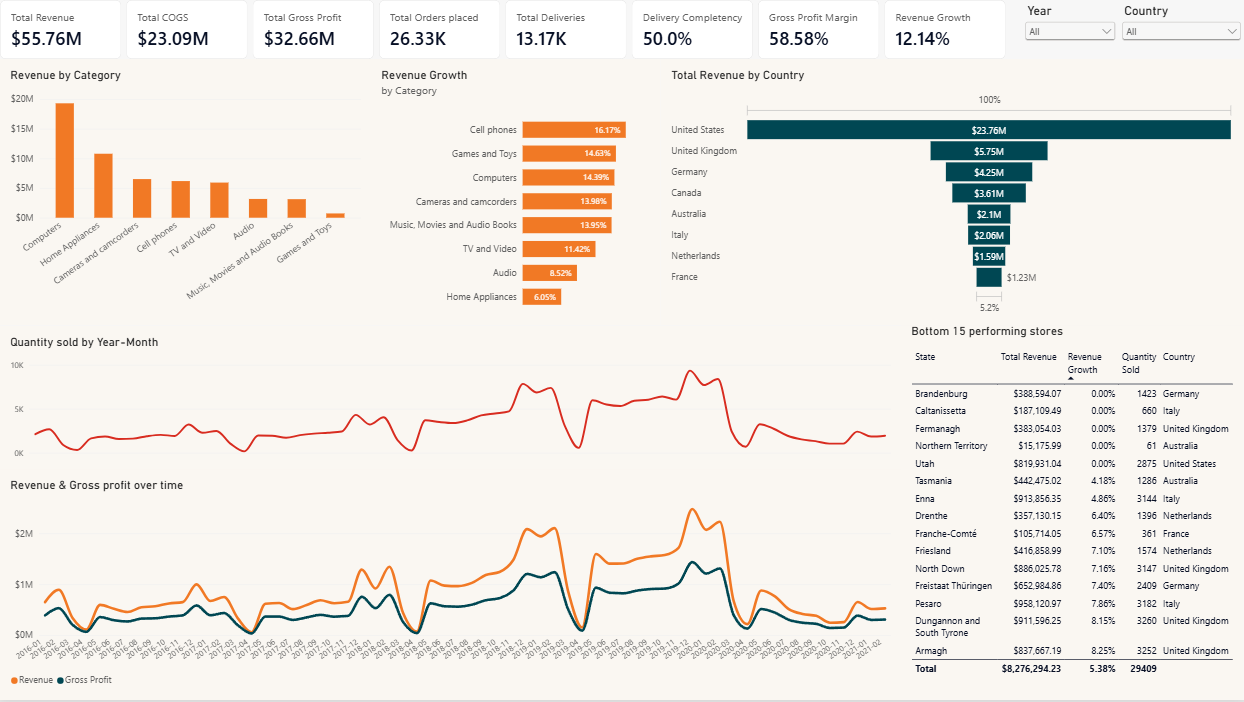

What the dashboard file says about the page in this screenshot:
{"tool":"powerbi","page":{"name":"Page 1","canvas":[1920,1080],"ordinal":0},"visuals":[{"type":"lineChart","title":"Revenue & Gross profit over time","fields":{"Category":["Calendar.Year-Month"],"Y":["Sum(sales.Revenue)","Sum(sales.Gross Profit)"]},"box":[0,723.9,1390.6,356.5],"z":0},{"type":"cardVisual","fields":{"Data":["Sum(sales.Revenue)","Sum(sales.COGS)","Sum(sales.Gross Profit)","Count(sales.Order Number)","CountNonNull(sales.Delivery Date)","sales.Delivery Completency","sales.Gross Profit Margin","sales.Revenue Growth"]},"box":[0,0,1557.5,91.8],"z":1000},{"type":"columnChart","fields":{"Category":["Products.Category"],"Y":["Sum(sales.Revenue)"]},"box":[0,91.8,573.3,411],"z":2000},{"type":"lineChart","fields":{"Category":["Calendar.Year-Month"],"Y":["Sum(sales.Quantity)"]},"box":[0,503.2,1390.6,220.7],"z":3000},{"type":"slicer","fields":{"Values":["Stores.Country"]},"box":[1726.4,5.3,192.9,86.5],"z":4000},{"type":"tableEx","title":"Bottom 15 performing stores","fields":{"Values":["Stores.State","Sum(sales.Revenue)","sales.Revenue Growth","Sum(sales.Quantity)","Stores.Country"]},"box":[1390.6,486.2,529.4,594.2],"z":5000},{"type":"funnel","title":"Total Revenue by Country","fields":{"Category":["Stores.Country"],"Y":["Sum(sales.Revenue)"]},"box":[1020.1,91.8,900.4,411],"z":6000},{"type":"slicer","fields":{"Values":["Calendar.Year"]},"box":[1577.4,5.3,149,86.5],"z":7000},{"type":"barChart","fields":{"Category":["Products.Category"],"Y":["sales.Revenue Growth"]},"box":[573.3,91.8,446.9,411],"z":8000}]}

Visuals, with their boxes in screenshot pixels (x1, y1, x2, y2), scaled from the page's 1920x1080 canvas onto the 1244x702 screenshot:
"Revenue & Gross profit over time" lineChart: [left=0, top=471, right=901, bottom=701]
cardVisual - Sum(sales.Revenue) x Sum(sales.COGS): [left=0, top=0, right=1009, bottom=60]
columnChart - Products.Category x Sum(sales.Revenue): [left=0, top=60, right=371, bottom=327]
lineChart - Calendar.Year-Month x Sum(sales.Quantity): [left=0, top=327, right=901, bottom=471]
slicer - Stores.Country: [left=1119, top=3, right=1243, bottom=60]
"Bottom 15 performing stores" tableEx: [left=901, top=316, right=1243, bottom=701]
"Total Revenue by Country" funnel: [left=661, top=60, right=1243, bottom=327]
slicer - Calendar.Year: [left=1022, top=3, right=1119, bottom=60]
barChart - Products.Category x sales.Revenue Growth: [left=371, top=60, right=661, bottom=327]
